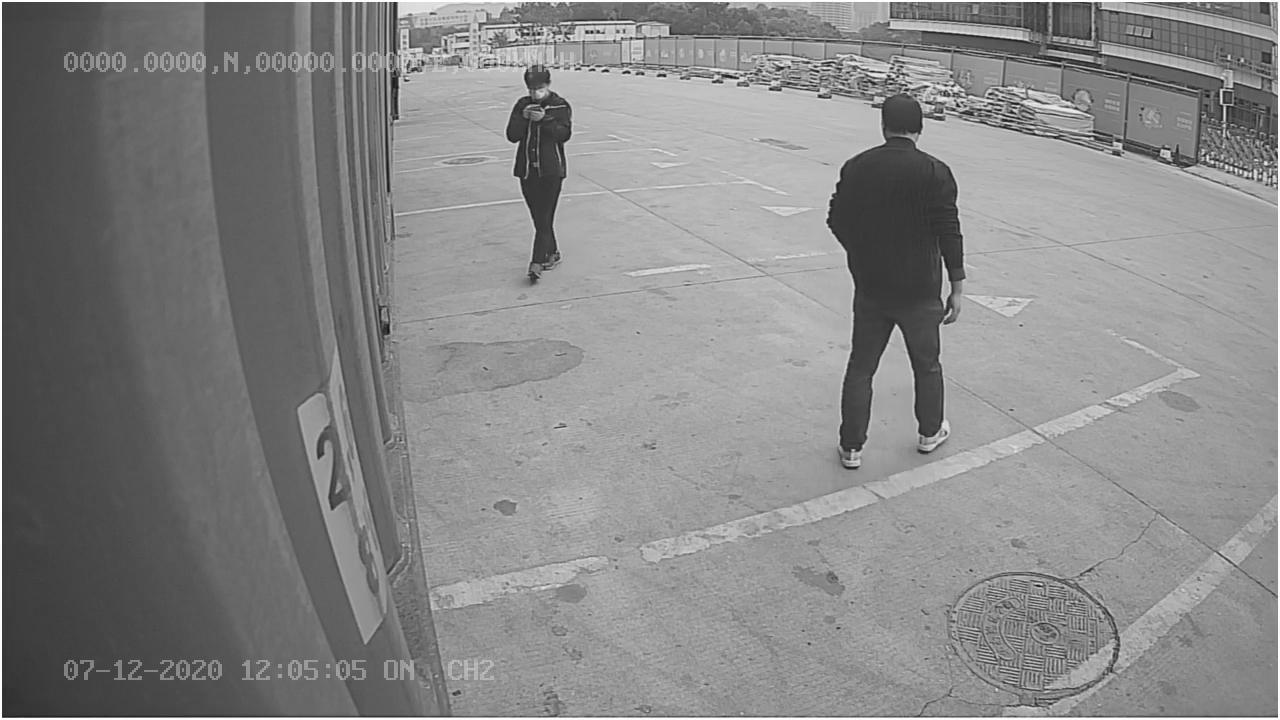person: (821, 90, 969, 469)
